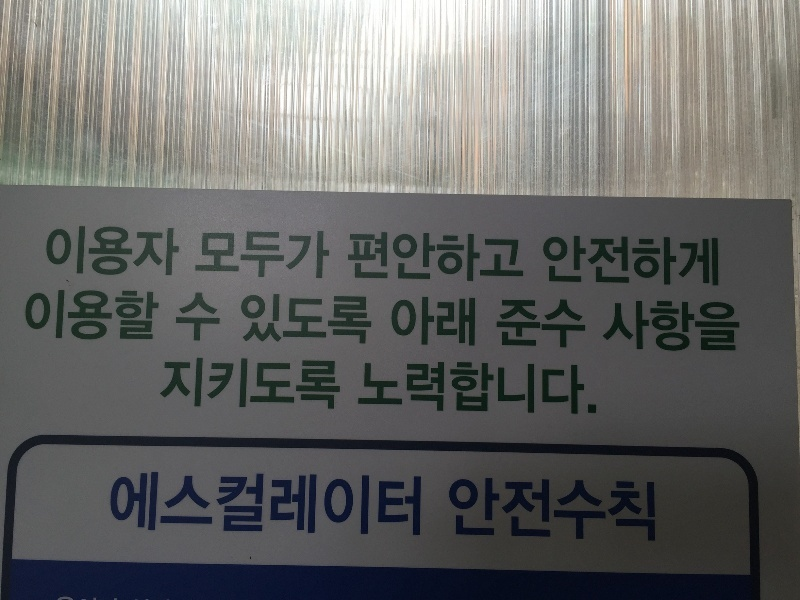text: (641, 481, 657, 544), (113, 471, 128, 537), (129, 471, 144, 537), (145, 471, 160, 537), (161, 471, 176, 537), (177, 471, 192, 537), (193, 471, 208, 537), (209, 471, 224, 537), (225, 471, 240, 537), (241, 471, 256, 537), (257, 471, 272, 537), (273, 471, 288, 537), (289, 471, 304, 537), (305, 471, 320, 537), (321, 471, 336, 537), (337, 471, 352, 537), (353, 471, 368, 537), (369, 471, 384, 537), (385, 471, 400, 537), (401, 471, 416, 537), (449, 481, 464, 544), (465, 481, 480, 544), (481, 481, 496, 544), (497, 481, 512, 544), (513, 481, 528, 544), (529, 481, 544, 544), (545, 481, 560, 544), (561, 481, 576, 544), (577, 481, 592, 544), (593, 481, 608, 544), (609, 481, 624, 544), (625, 481, 640, 544), (369, 361, 384, 417), (385, 361, 400, 417), (401, 361, 416, 417), (417, 361, 432, 417), (433, 361, 448, 417), (449, 361, 464, 417), (465, 361, 480, 417), (481, 361, 496, 417), (497, 361, 512, 417), (513, 361, 528, 417), (529, 361, 544, 417), (545, 361, 560, 417), (561, 361, 576, 417), (577, 361, 592, 417), (145, 290, 161, 342), (705, 236, 721, 287), (193, 291, 208, 344), (497, 298, 512, 351), (513, 298, 528, 351), (529, 298, 544, 351), (545, 298, 560, 351), (561, 298, 576, 351), (609, 302, 624, 355), (625, 302, 640, 355), (641, 302, 656, 355), (657, 302, 672, 355), (673, 302, 688, 355), (689, 302, 704, 355), (705, 302, 720, 355), (721, 302, 736, 355), (177, 359, 192, 412), (193, 359, 208, 412), (209, 359, 224, 412), (225, 359, 240, 412), (241, 359, 256, 412), (257, 359, 272, 412), (273, 359, 288, 412), (289, 359, 304, 412), (305, 359, 320, 412), (321, 359, 336, 412), (49, 226, 64, 278), (65, 226, 80, 278), (81, 226, 96, 278), (97, 226, 112, 278), (113, 226, 128, 278), (129, 226, 144, 278), (145, 226, 160, 278), (161, 226, 176, 278), (33, 290, 48, 342), (49, 290, 64, 342), (65, 290, 80, 342), (81, 290, 96, 342), (97, 290, 112, 342), (113, 290, 128, 342), (129, 290, 144, 342), (241, 294, 256, 346), (257, 294, 272, 346), (273, 294, 288, 346), (289, 294, 304, 346), (305, 294, 320, 346), (321, 294, 336, 346), (337, 294, 352, 346), (353, 294, 368, 346), (545, 236, 560, 287), (561, 236, 576, 287), (577, 236, 592, 287), (593, 236, 608, 287), (609, 236, 624, 287), (625, 236, 640, 287), (641, 236, 656, 287), (657, 236, 672, 287), (673, 236, 688, 287), (689, 236, 704, 287), (401, 296, 416, 347), (417, 296, 432, 347), (433, 296, 448, 347), (449, 296, 464, 347), (353, 234, 368, 284), (369, 234, 384, 284), (385, 234, 400, 284), (401, 234, 416, 284), (417, 234, 432, 284), (433, 234, 448, 284), (449, 234, 464, 284), (465, 234, 480, 284), (481, 234, 496, 284), (497, 234, 512, 284), (209, 231, 224, 280), (225, 231, 240, 280), (241, 231, 256, 280), (257, 231, 272, 280), (273, 231, 288, 280), (289, 231, 304, 280), (305, 231, 320, 280), (179, 291, 192, 344), (164, 359, 176, 412), (465, 296, 477, 347), (209, 291, 220, 344), (577, 298, 588, 351), (513, 234, 524, 284), (391, 296, 400, 347), (321, 231, 330, 280), (417, 471, 423, 537), (361, 361, 368, 417), (201, 231, 208, 280), (593, 361, 599, 417), (347, 234, 352, 284), (604, 302, 608, 355), (737, 302, 741, 355), (337, 359, 341, 412), (177, 226, 181, 278), (29, 290, 32, 342), (369, 294, 372, 346), (111, 471, 112, 537), (447, 481, 448, 544), (495, 298, 496, 351), (239, 294, 240, 346), (543, 236, 544, 287)
